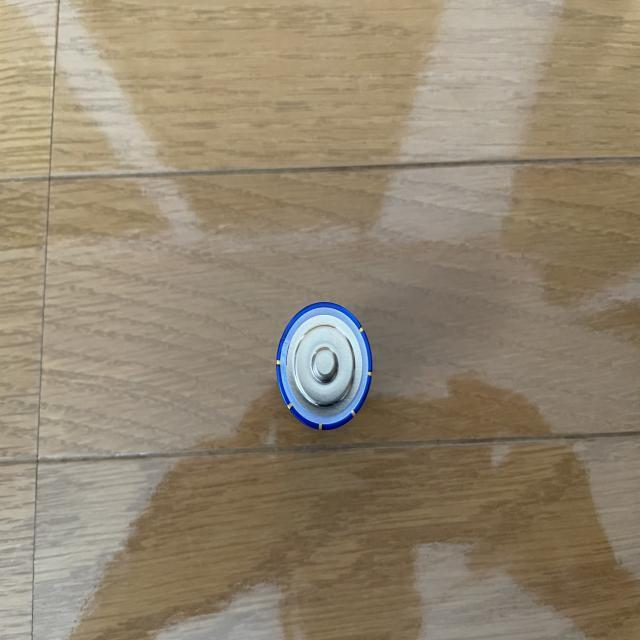battery: (274, 300, 372, 428)
